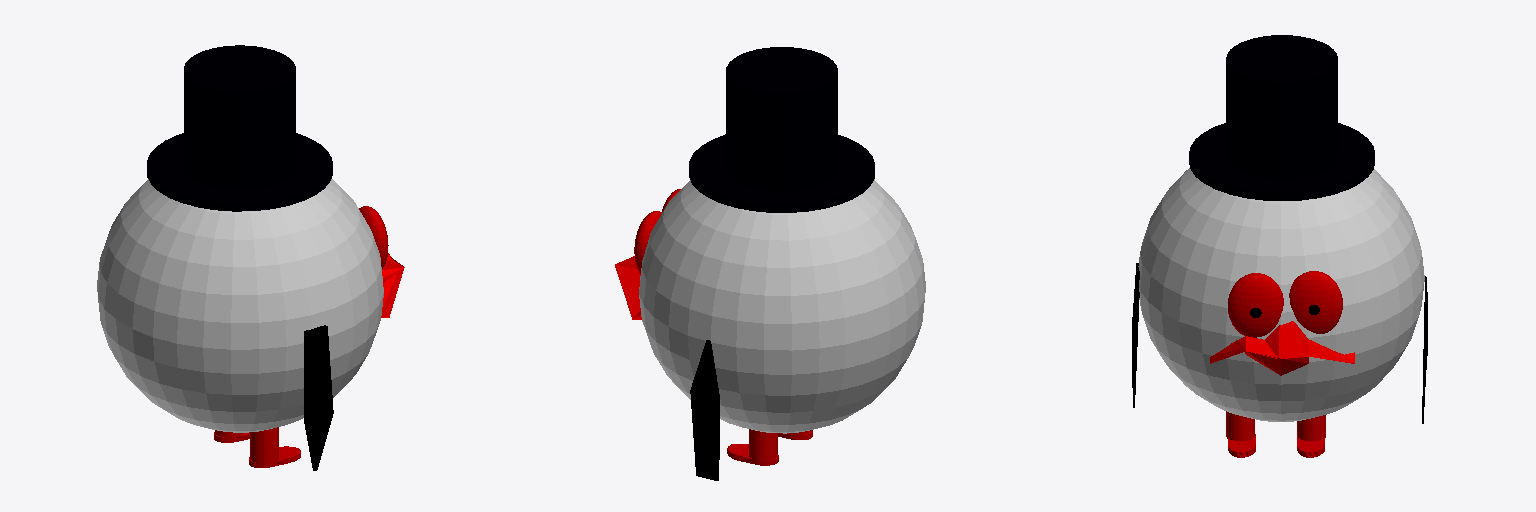
File: pin.obj
3 views of the same model, side by side, from view 1: azimuth 30°, elevation 25°; view 2: azimuth 150°, elevation 25°; view 3: azimuth 270°, elevation 25° (orthographic).
Parts seen in each view (by area): view 1: Сфера, Цилиндр.004, Куб, Цилиндр, Сфера.002; view 2: Сфера, Цилиндр.004, Куб.001, Плоскость, Цилиндр.001, Сфера.001; view 3: Сфера, Цилиндр.004, Сфера.002, Сфера.001, Плоскость, Плоскость.001, Цилиндр, Куб, Цилиндр.001.
Boxes of the visible parts, <box> form: Сфера: <box>97,179,383,432</box>; Цилиндр.004: <box>147,45,332,211</box>; Куб: <box>304,325,333,470</box>; Цилиндр: <box>250,427,278,464</box>; Сфера.002: <box>359,206,388,268</box>; Сфера: <box>639,179,925,433</box>; Цилиндр.004: <box>689,47,874,212</box>; Куб.001: <box>690,340,719,480</box>; Плоскость: <box>615,256,640,318</box>; Цилиндр.001: <box>749,429,777,461</box>; Сфера.001: <box>634,211,661,273</box>; Сфера: <box>1138,168,1424,421</box>; Цилиндр.004: <box>1189,35,1374,200</box>; Сфера.002: <box>1228,273,1283,337</box>; Сфера.001: <box>1289,271,1342,333</box>; Плоскость: <box>1210,321,1354,363</box>; Плоскость.001: <box>1210,340,1353,375</box>; Цилиндр: <box>1226,411,1254,440</box>; Куб: <box>1132,263,1139,407</box>; Цилиндр.001: <box>1297,415,1325,440</box>.
Size of the model in its own units: 2.24 by 2.91 by 2.06.